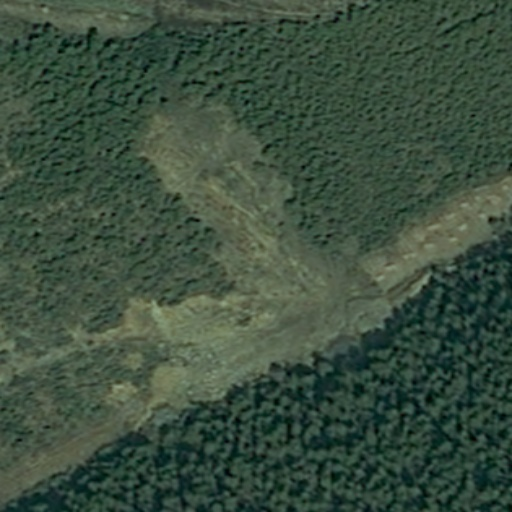landslide: (139, 104, 349, 320)
